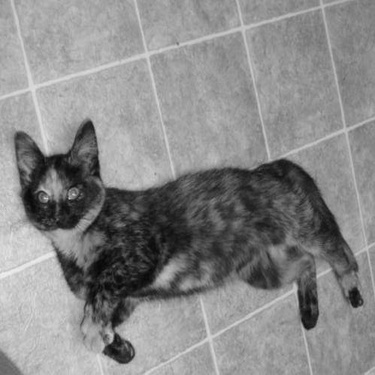cat: (9, 109, 367, 370)
